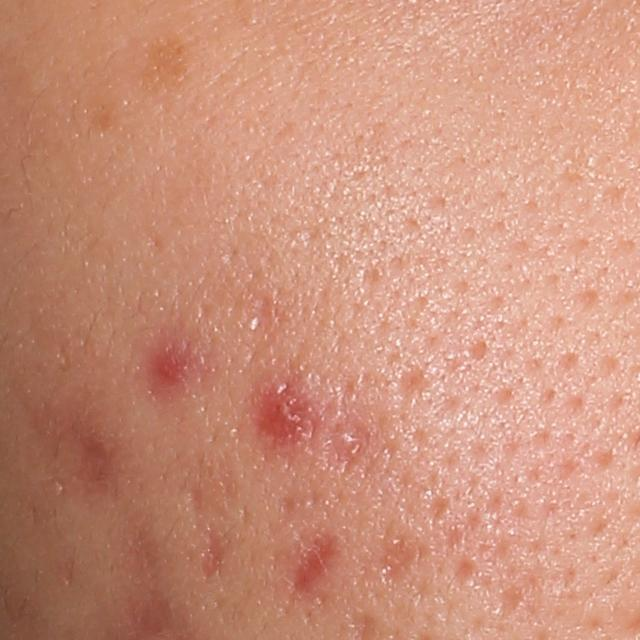atrophic_scar: (187, 464, 233, 585), (372, 524, 431, 589), (287, 532, 342, 598), (496, 571, 532, 627), (396, 360, 434, 402), (426, 488, 453, 526), (450, 559, 473, 587)
melasma: (140, 30, 193, 108)
papule: (266, 392, 305, 436), (154, 353, 184, 383)
